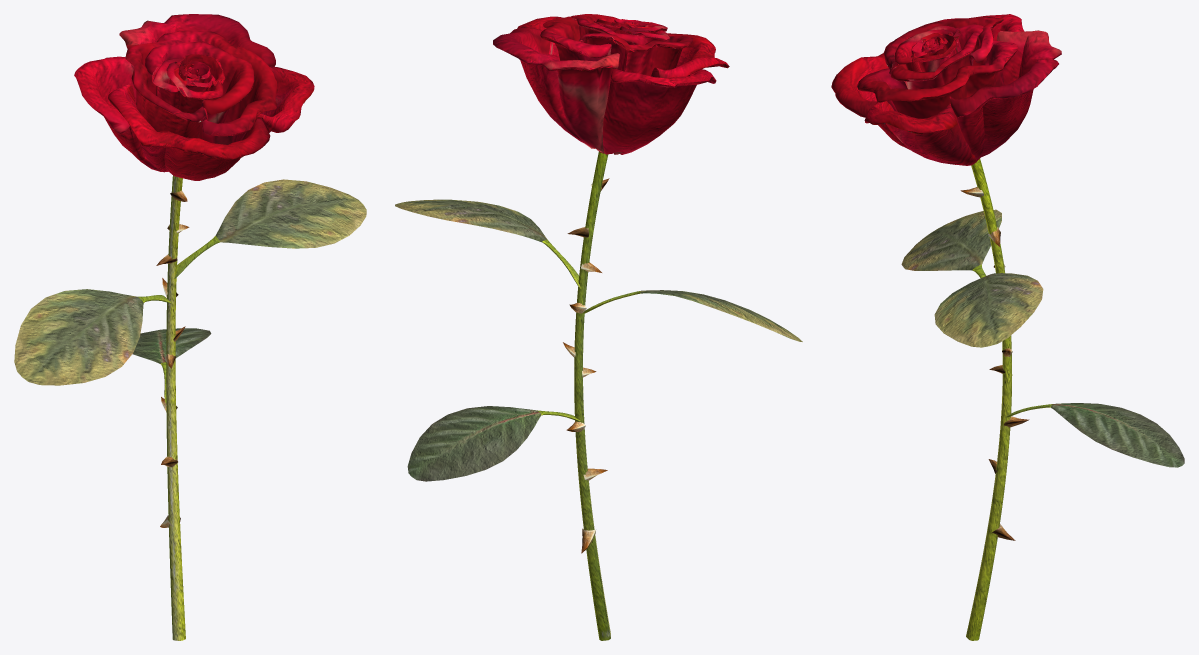
File: rose.fbx
3 renders of one model, left to right at view 1: azimuth 30°, elevation 25°; view 2: azimuth 150°, elevation 25°; view 3: azimuth 270°, elevation 25°, orthographic. The views are drawn at different scales.
Visible parts, largest first — view 1: rose; view 2: rose; view 3: rose.
Part boxes in pixels (<box>): rose: <box>14,14,366,640</box>; rose: <box>395,14,802,640</box>; rose: <box>831,14,1184,640</box>.
Bounding box in the file's own units: 0.2019 × 0.1652 × 0.3119.
